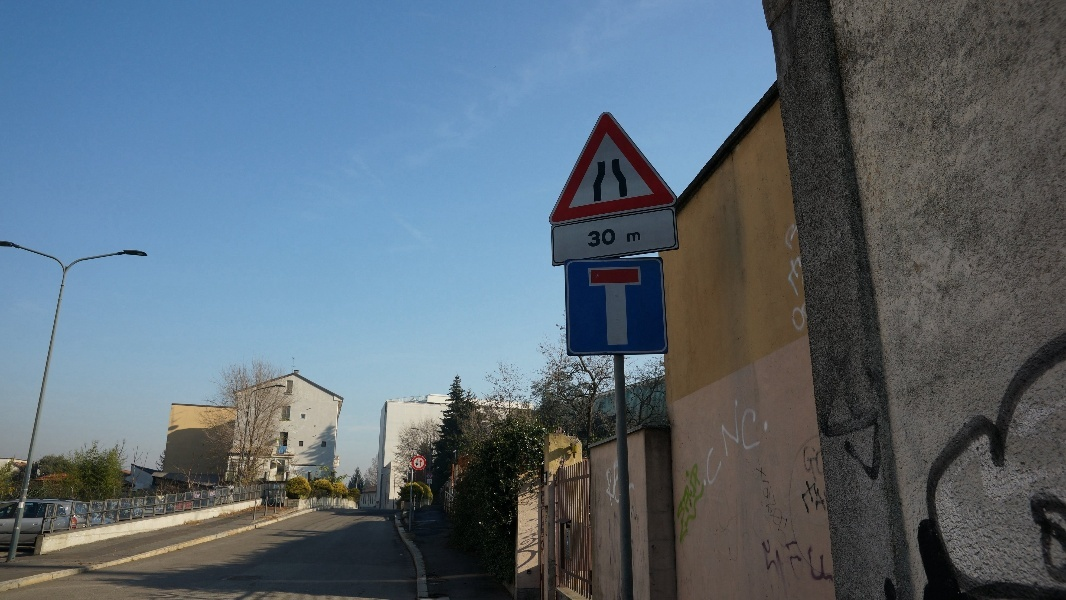text: (705, 385, 720, 498), (721, 385, 736, 498), (737, 385, 752, 498), (753, 385, 768, 498), (785, 223, 800, 333), (769, 467, 784, 554), (689, 462, 703, 527), (801, 223, 809, 333), (675, 462, 688, 527), (769, 540, 784, 586), (785, 540, 800, 586), (801, 540, 816, 586), (817, 540, 832, 586), (769, 385, 774, 498), (609, 458, 620, 509), (803, 446, 816, 482), (801, 482, 816, 513), (763, 467, 768, 554), (785, 467, 790, 554), (759, 540, 768, 586), (817, 482, 829, 513), (701, 385, 704, 498), (593, 227, 608, 249), (817, 446, 825, 482), (603, 458, 608, 509), (782, 223, 784, 333), (626, 231, 640, 244), (609, 227, 617, 249), (833, 540, 836, 586), (587, 227, 592, 249), (641, 231, 642, 244)
